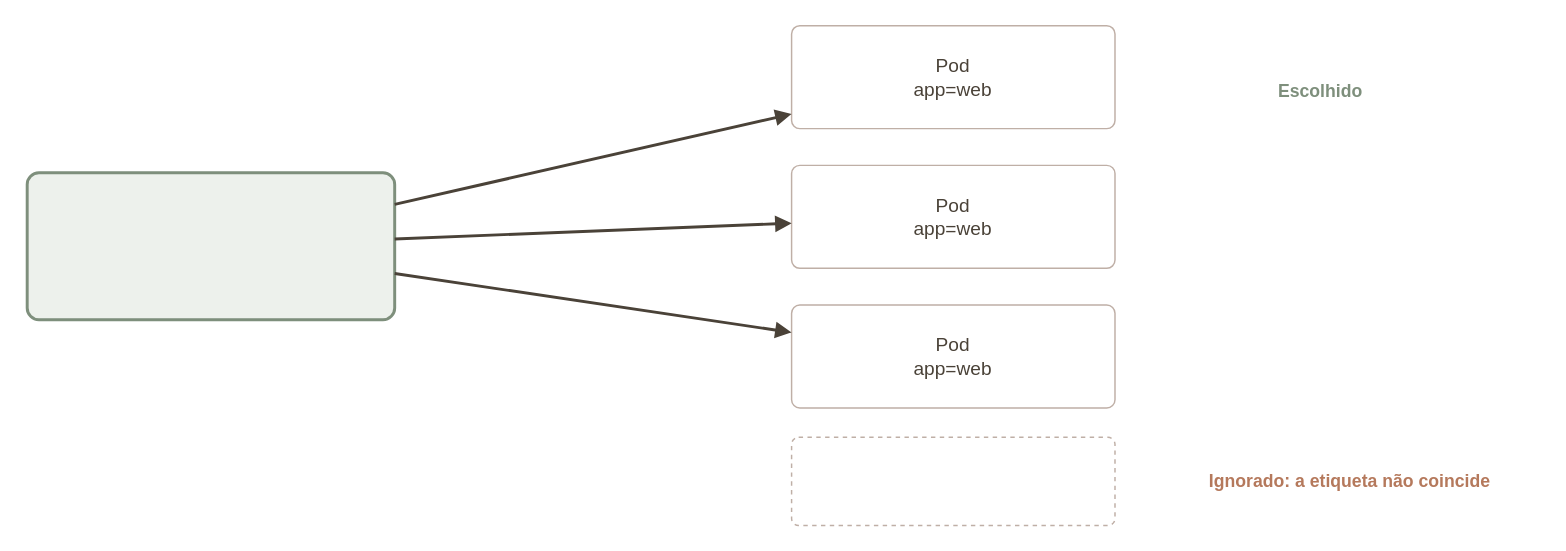
Some shapes in this 1566 by 551 pixel diagram are drawn without their labels. Here are the shapes that lost their labels. From the top down, the centre of each, then its label:
(210,245): Service web selector: app=web
(952,481): Outro Pod app=outro
